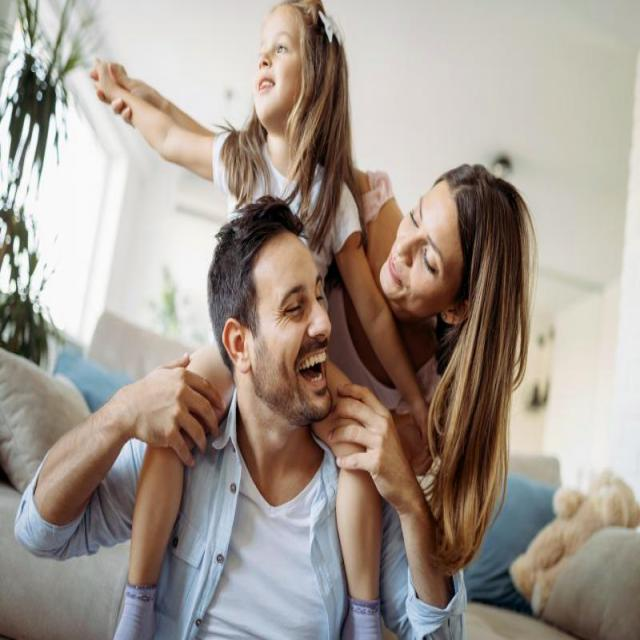adult: (11, 195, 467, 640), (323, 132, 533, 640)
child: (91, 1, 428, 640)
